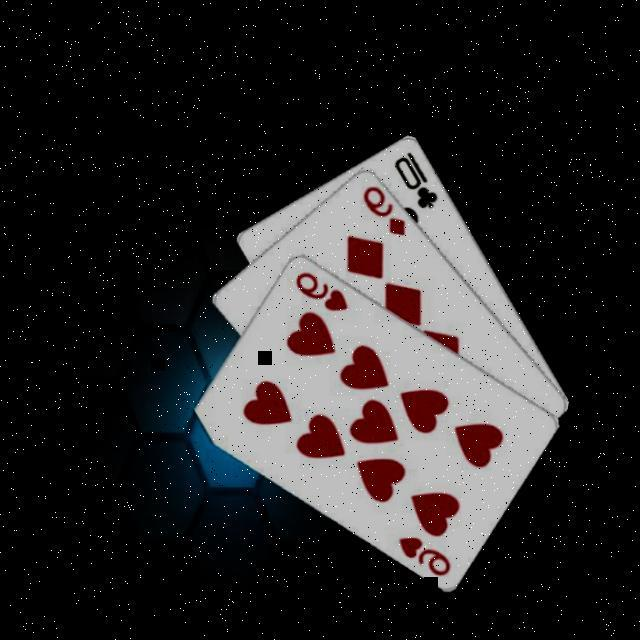10C: (388, 148, 439, 211)
9D: (357, 183, 406, 239)
9H: (391, 532, 451, 579), (289, 268, 348, 315)
